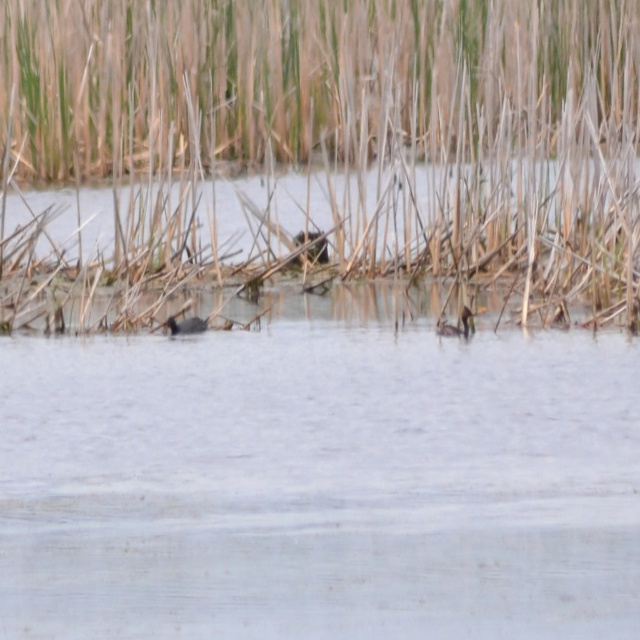Duck: (435, 303, 485, 336)
